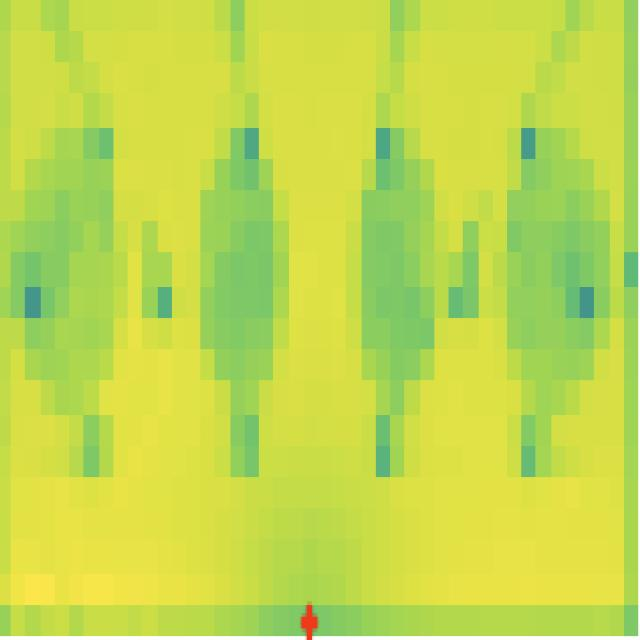Concrete: (359, 158, 438, 414)
Glass: (196, 161, 294, 408)
Metal: (506, 128, 610, 414)
Wood: (31, 120, 122, 408)
